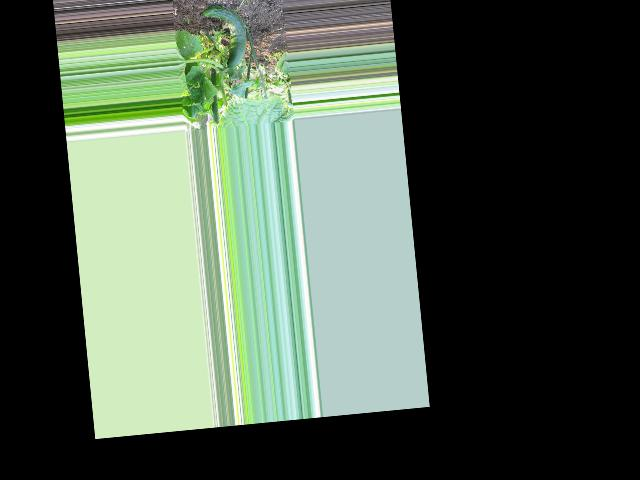cucumber: (202, 2, 249, 71)
